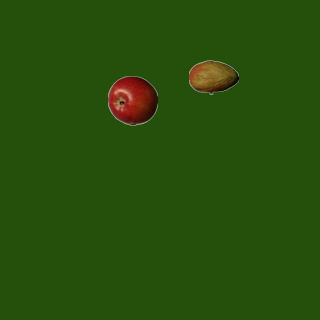Apple Braeburn: (107, 75, 157, 125)
Papaya: (188, 52, 238, 102)
